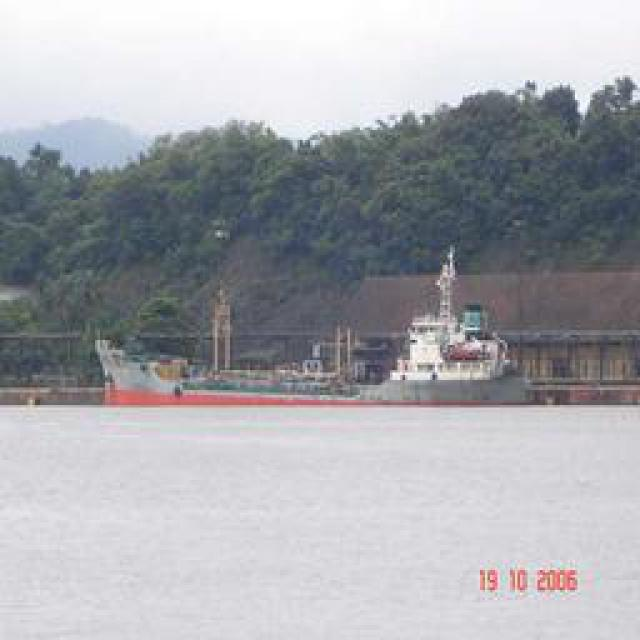Ship: (90, 259, 534, 414)
